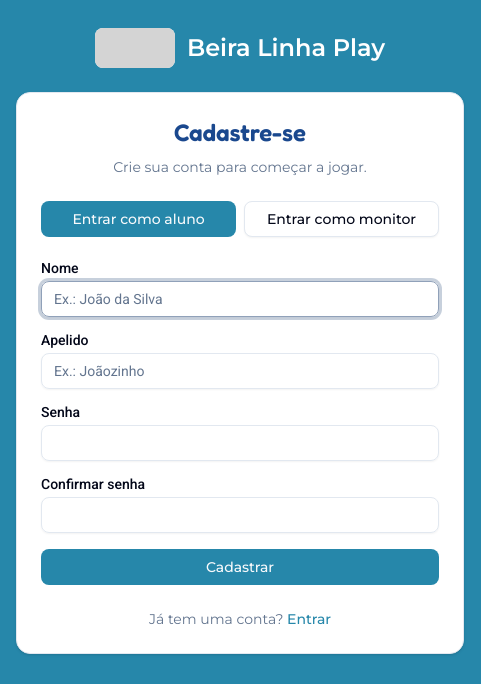
Test: RegisterPage › warns when passwords do not match
Type "Gustavo Aguiar" into the field labelled "Nome" at (240, 299), box [41,281,439,317]
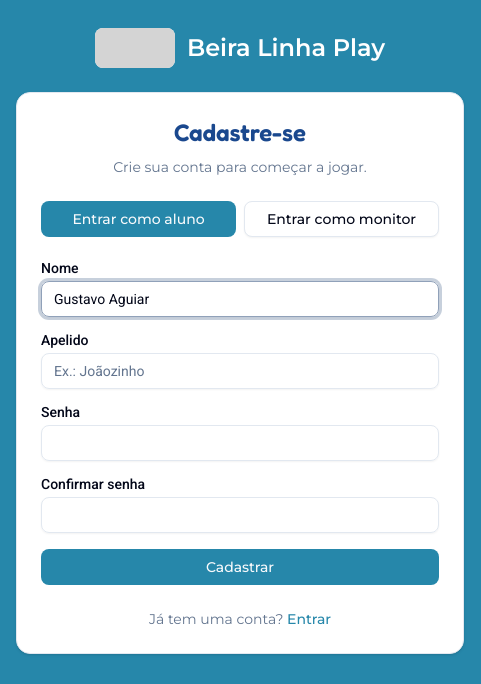
Type "Gu" into the field labelled "Apelido" at (240, 371), box [41,353,439,389]
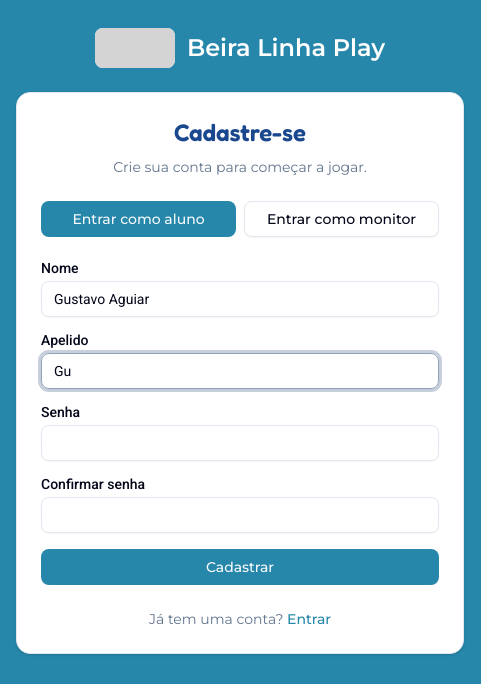
Type "123456" into the password field labelled "Senha" at (240, 443), box [41,425,439,461]
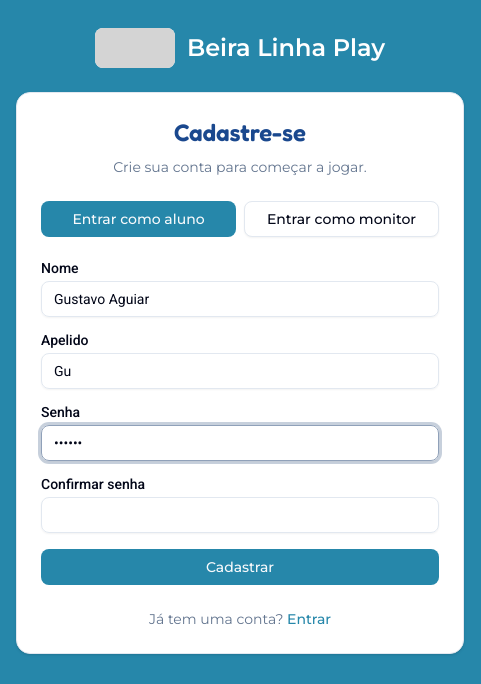
Type "abcdef" into the password field labelled "Confirmar senha" at (240, 515), box [41,497,439,533]
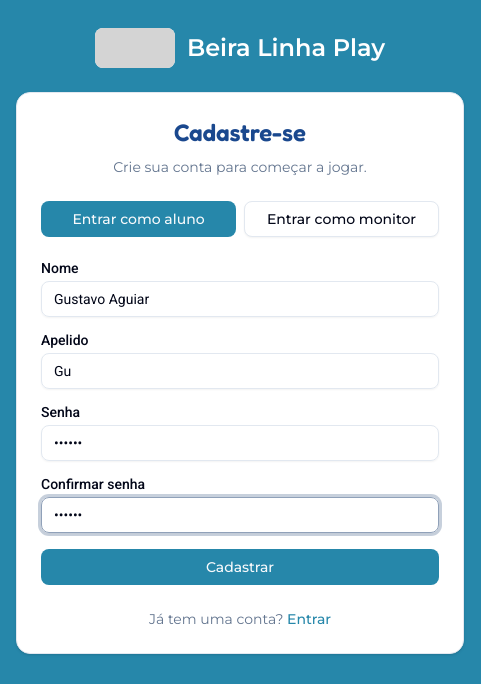
Click the button "Cadastrar" at (240, 567), box [41,549,439,585]
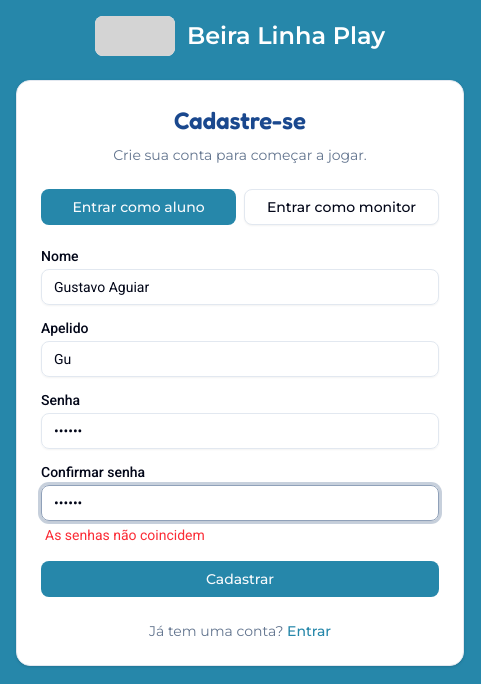
Result: the text "As senhas não coincidem" is shown at [45,527,205,543]
